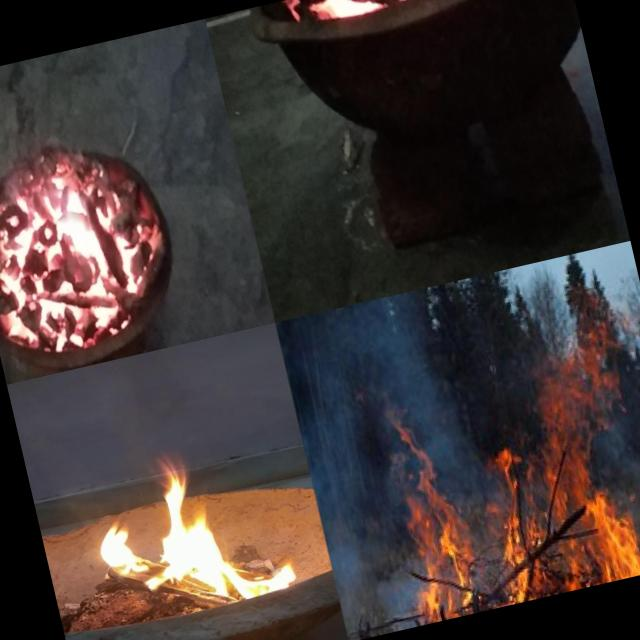fire: (292, 304, 640, 640), (0, 127, 178, 368), (80, 442, 297, 626)
